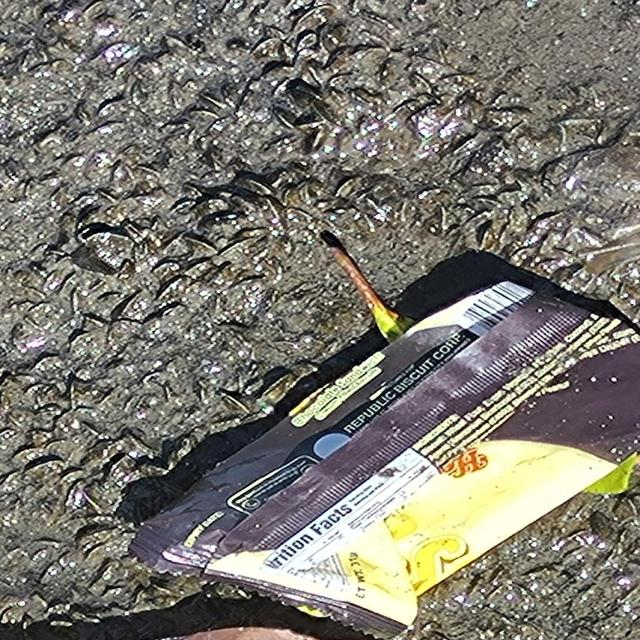litter: (124, 276, 640, 640)
